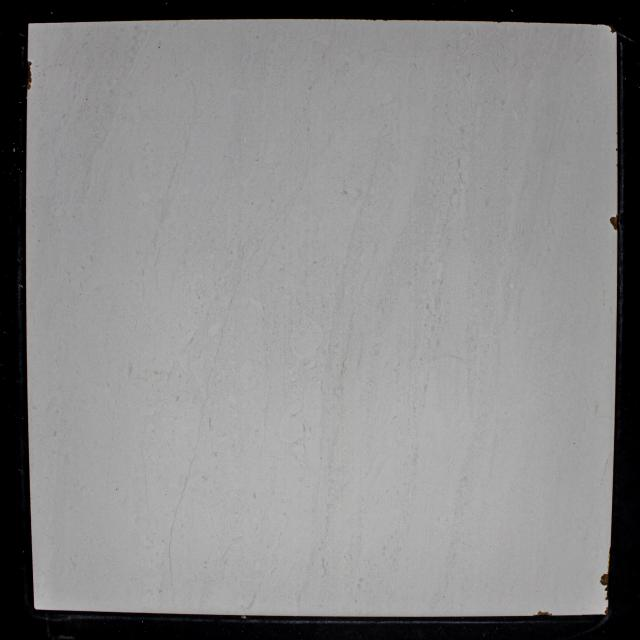edge-chipping: (26, 60, 33, 90), (610, 214, 618, 231), (600, 574, 609, 586), (533, 611, 553, 616), (604, 586, 609, 600), (610, 24, 617, 34), (604, 607, 609, 615)
line: (183, 395, 208, 492), (207, 299, 233, 391), (169, 495, 184, 587)
